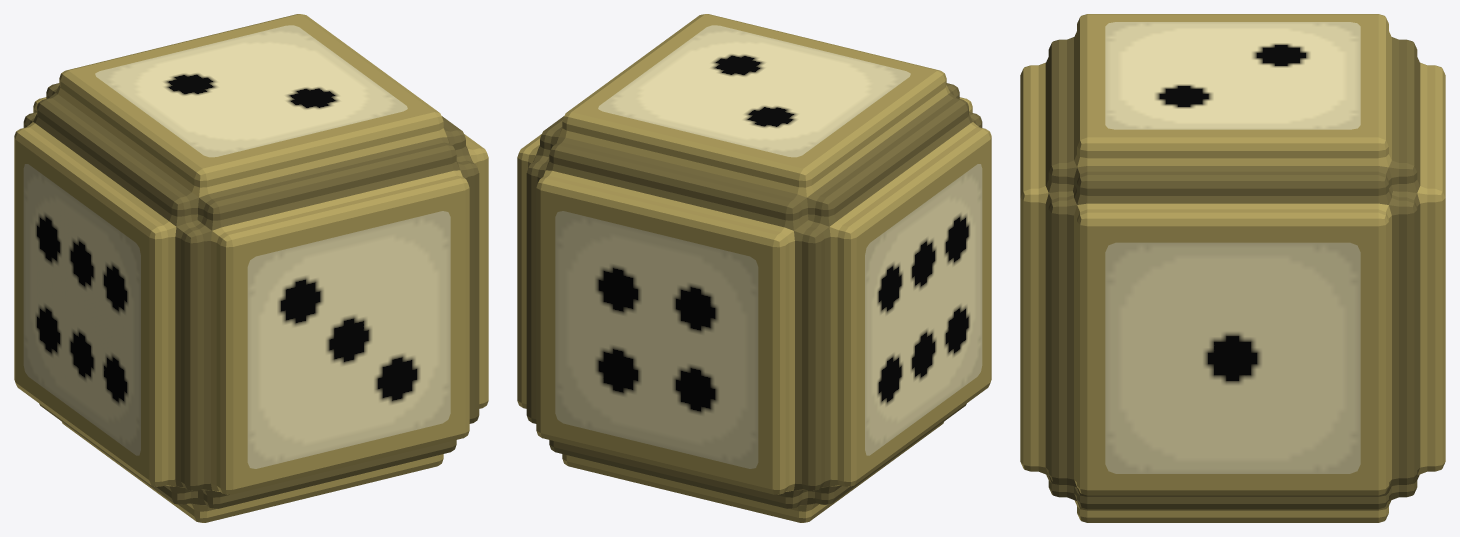
File: dice-gold-0c528638037b.glb
3 renders of one model, left to right at view 1: azimuth 30°, elevation 25°; view 2: azimuth 150°, elevation 25°; view 3: azimuth 270°, elevation 25°, orthographic. The views are drawn at different scales.
Parts seen in each view (by area): view 1: Cube.002; view 2: Cube.002; view 3: Cube.002.
Boxes of the visible parts, x1=… form: Cube.002: x1=14, y1=14, x2=488, y2=522; Cube.002: x1=517, y1=14, x2=991, y2=522; Cube.002: x1=1020, y1=14, x2=1445, y2=522.
Size of the model in its own units: 1 by 1 by 1.
Materials: 3 (1 with a texture image).
